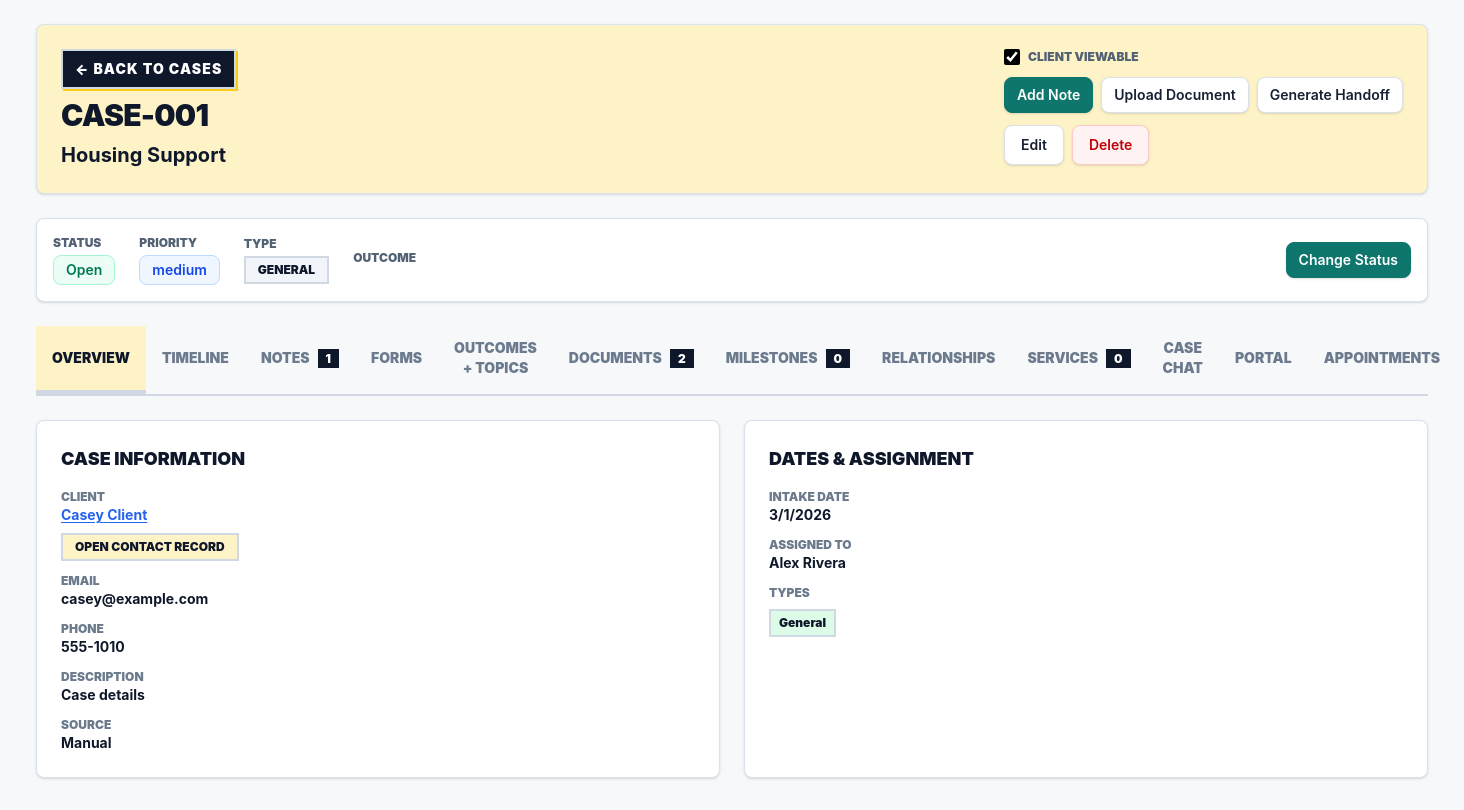
Scenario: Case detail tabs URL sync › updates query string when switching tabs
This screenshot has width=1464, height=810.
Click the tab "Documents2" at [631, 360], box [553,326,710,394]
(page scrolled)
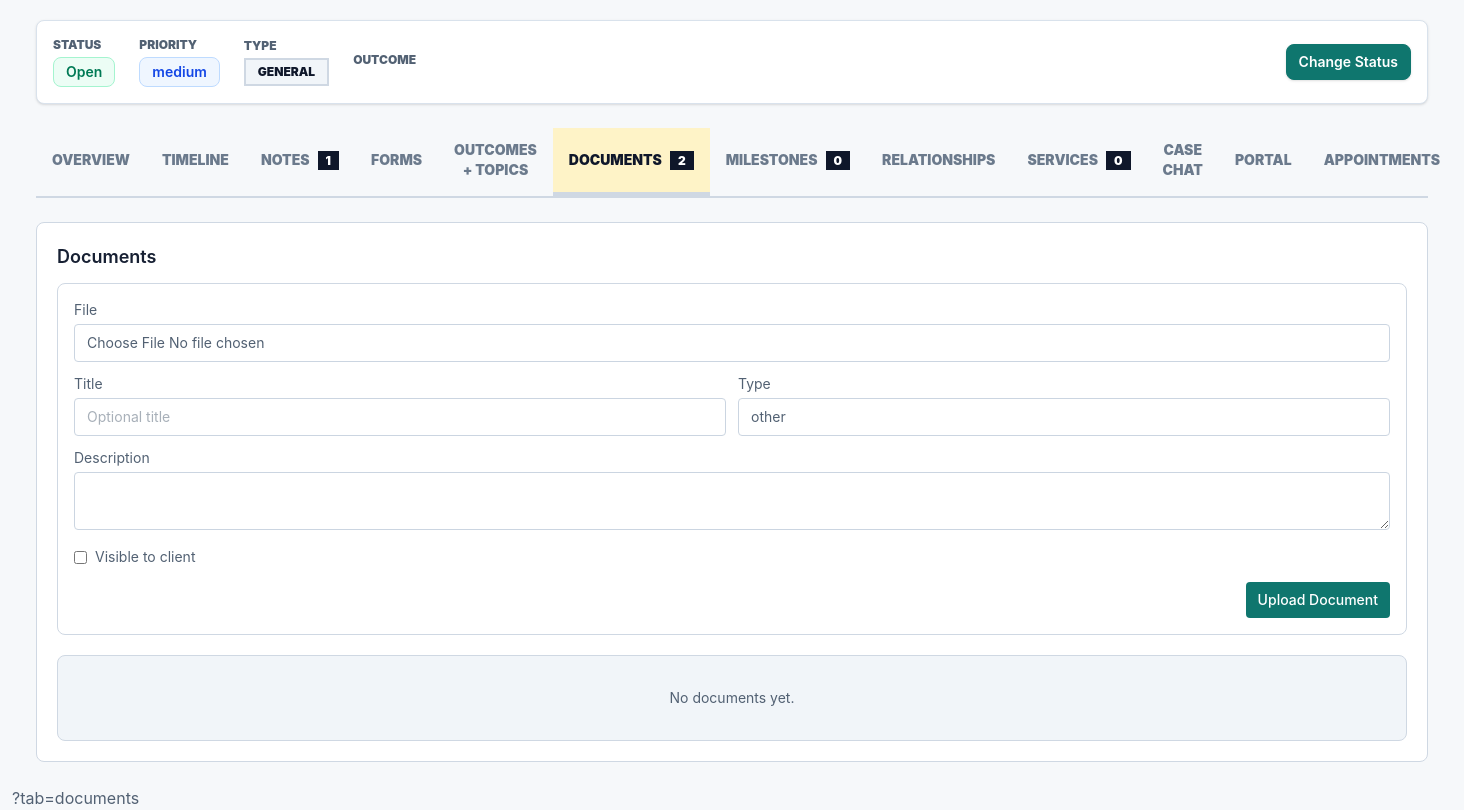
Expected: the text with test id "location-search" shows "tab=documents", [12,788,139,808]
